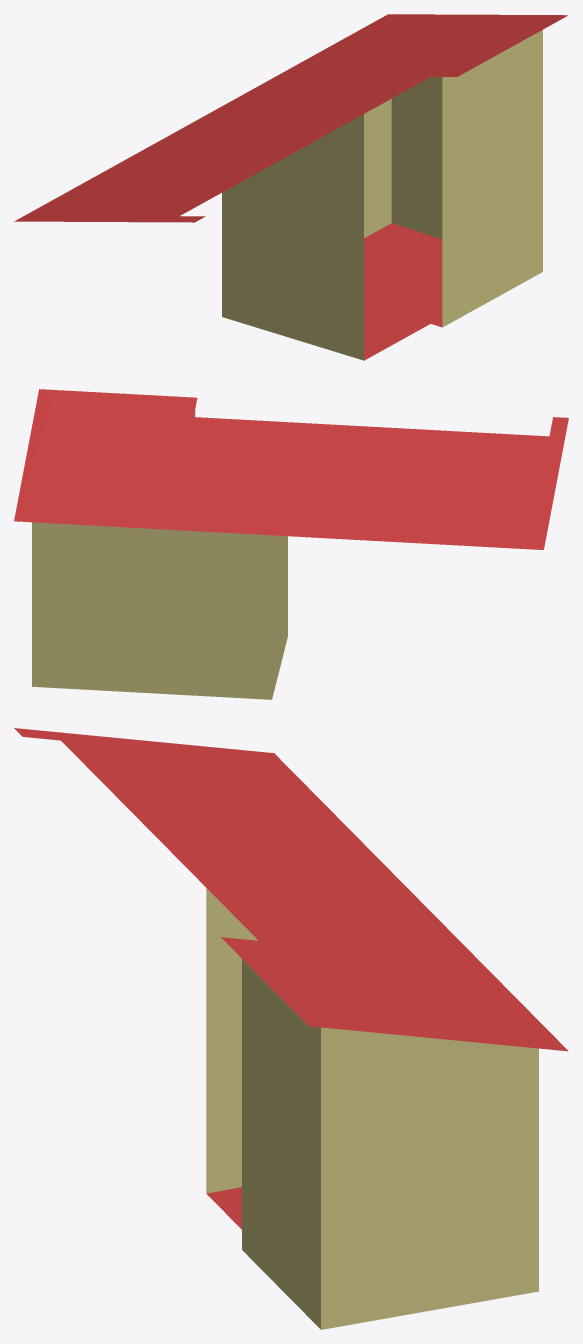
3 renders of one model, top to bottom at view 1: azimuth 30°, elevation 25°; view 2: azimuth 150°, elevation 25°; view 3: azimuth 270°, elevation 25°, orthographic. The views are drawn at different scales.
Bounding box in the file's own units: 17.75 × 12.1 × 7.61.
